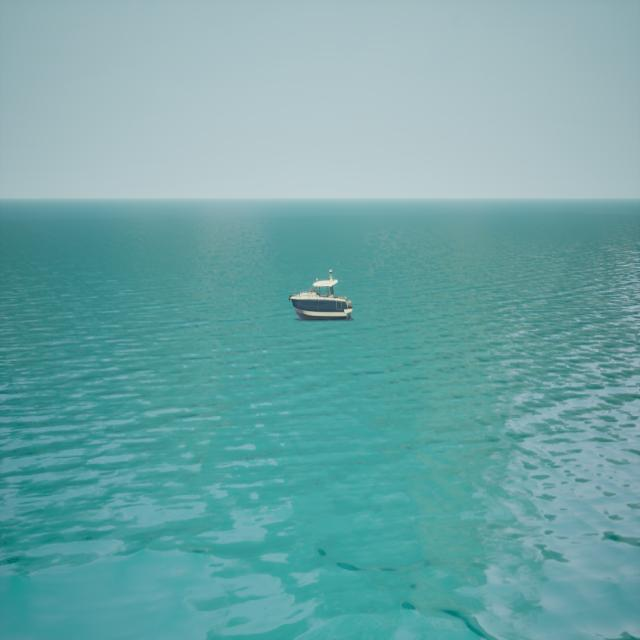ship: (288, 268, 354, 319)
